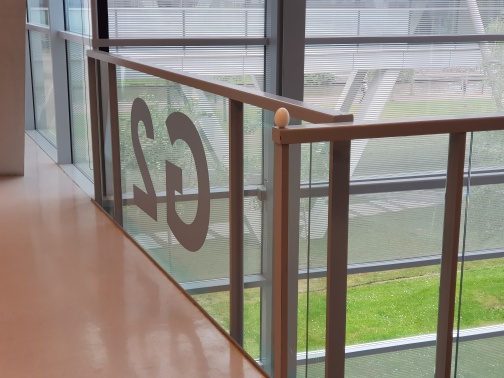egg: (273, 107, 292, 128)
